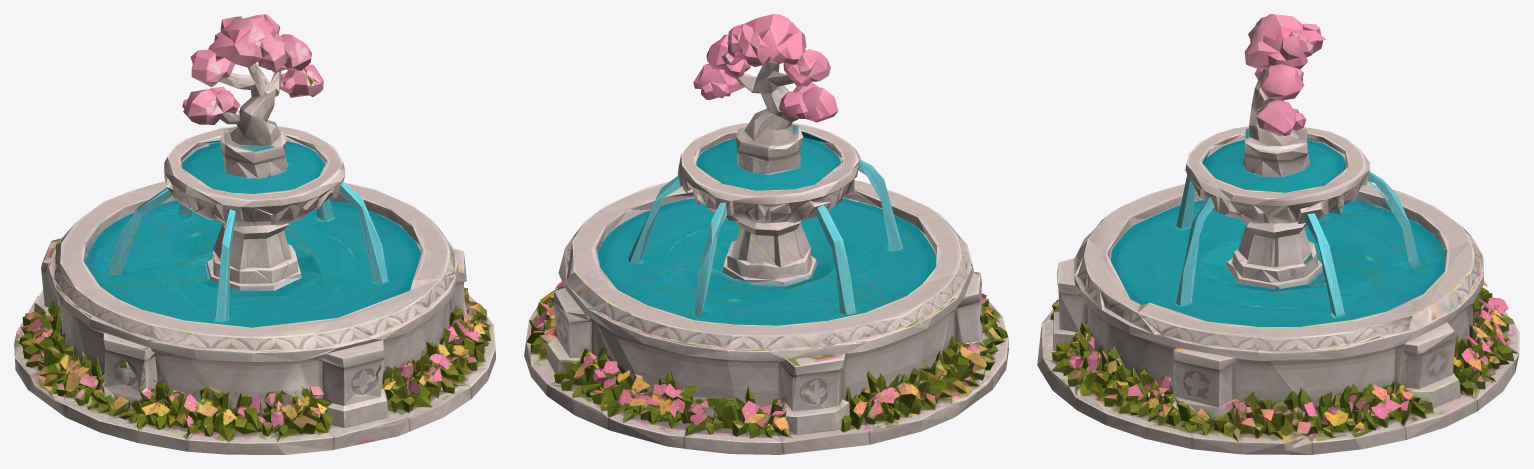
The model's file is town_fountain.glb.
The picture shows the model from 3 angles, left to right: view 1: azimuth 30°, elevation 25°; view 2: azimuth 150°, elevation 25°; view 3: azimuth 270°, elevation 25°; orthographic projection.
Size of the model in its own units: 1.9 by 1.46 by 1.9.
Materials: 1 (1 with a texture image).
